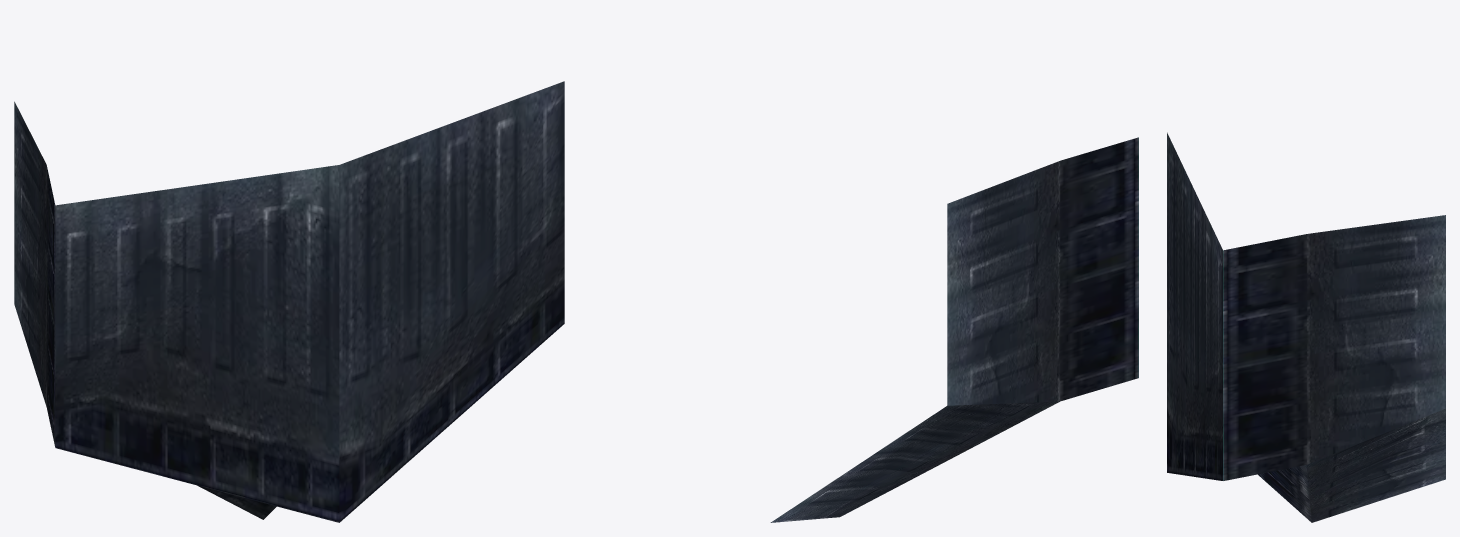
The picture shows the model from 3 angles, left to right: view 1: azimuth 30°, elevation 25°; view 2: azimuth 150°, elevation 25°; view 3: azimuth 270°, elevation 25°; orthographic projection. The views are drawn at different scales.
Visible parts, largest first — view 1: model_Object48; view 2: model_Object48; view 3: model_Object48.
Boxes of the visible parts, <box> form: model_Object48: <box>14,81,564,522</box>; model_Object48: <box>770,137,1138,522</box>; model_Object48: <box>1167,132,1445,522</box>.
Bounding box in the file's own units: 2.62 × 2.02 × 1.31.
1 material, 1 textured.
